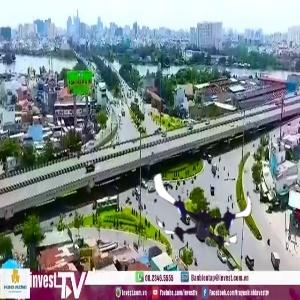drone: (155, 165, 257, 267)
